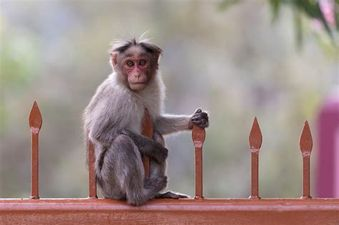monkey: (58, 16, 211, 202)
